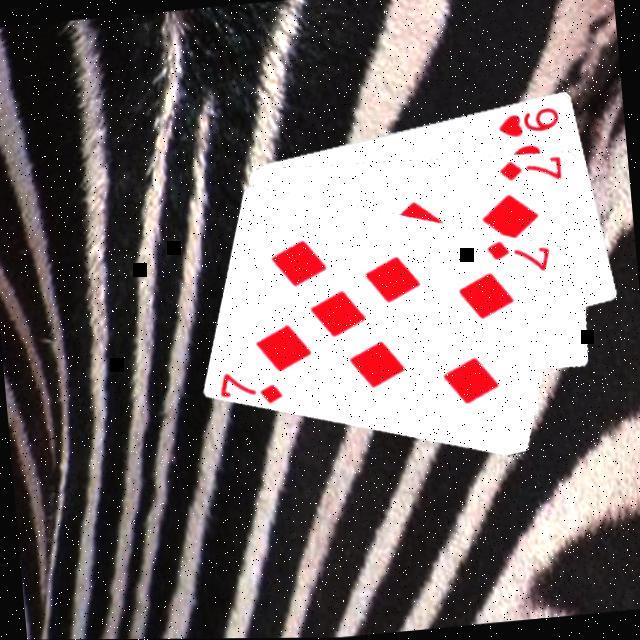7D: (214, 363, 286, 409), (482, 232, 552, 278), (494, 153, 564, 187)
9H: (492, 102, 562, 140)
